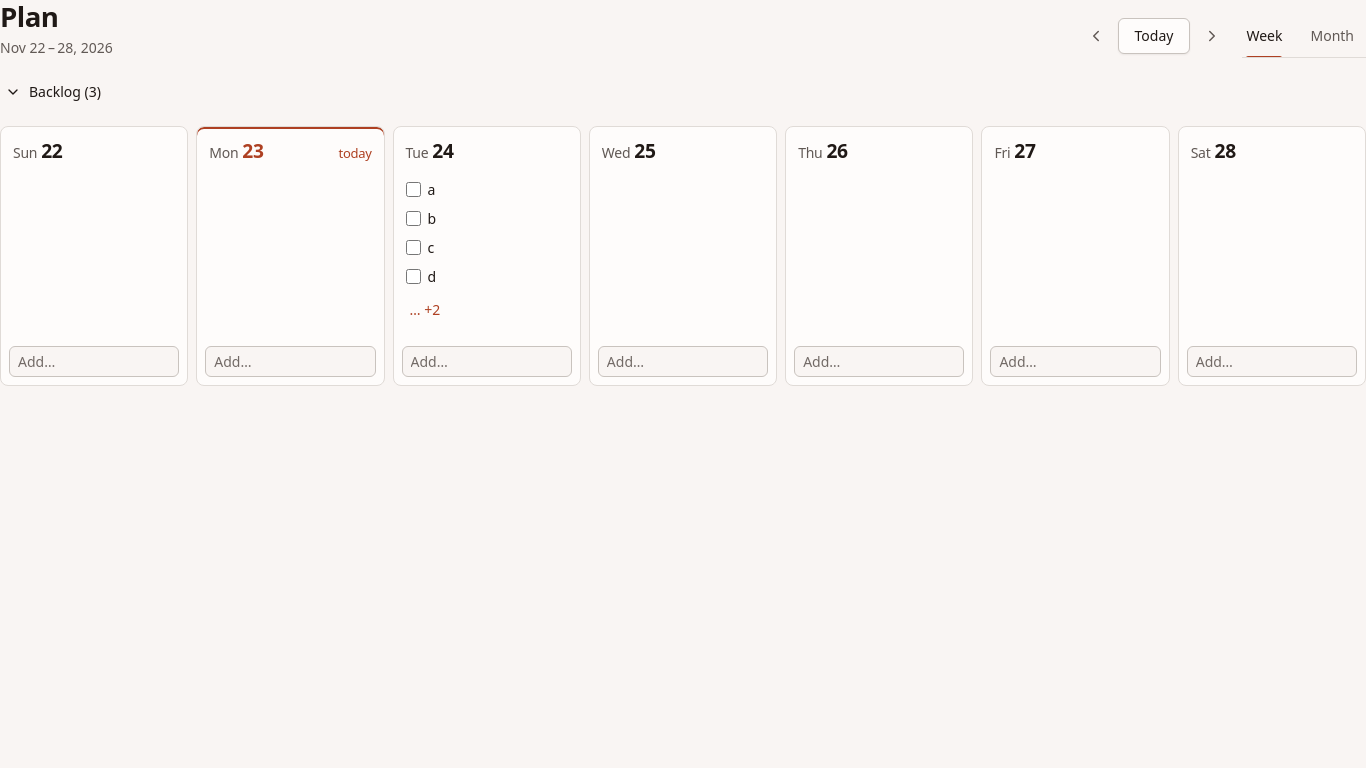
it: PlannerPage week view › caps a day at four items and opens the rest in the day detail
Expected: the number of checkboxes is 4, [406, 182, 421, 197]; [406, 211, 421, 226]; [406, 240, 421, 255]; [406, 269, 421, 284]
Step 1. Click the button "… +2" → (425, 309), box [402, 295, 448, 323]
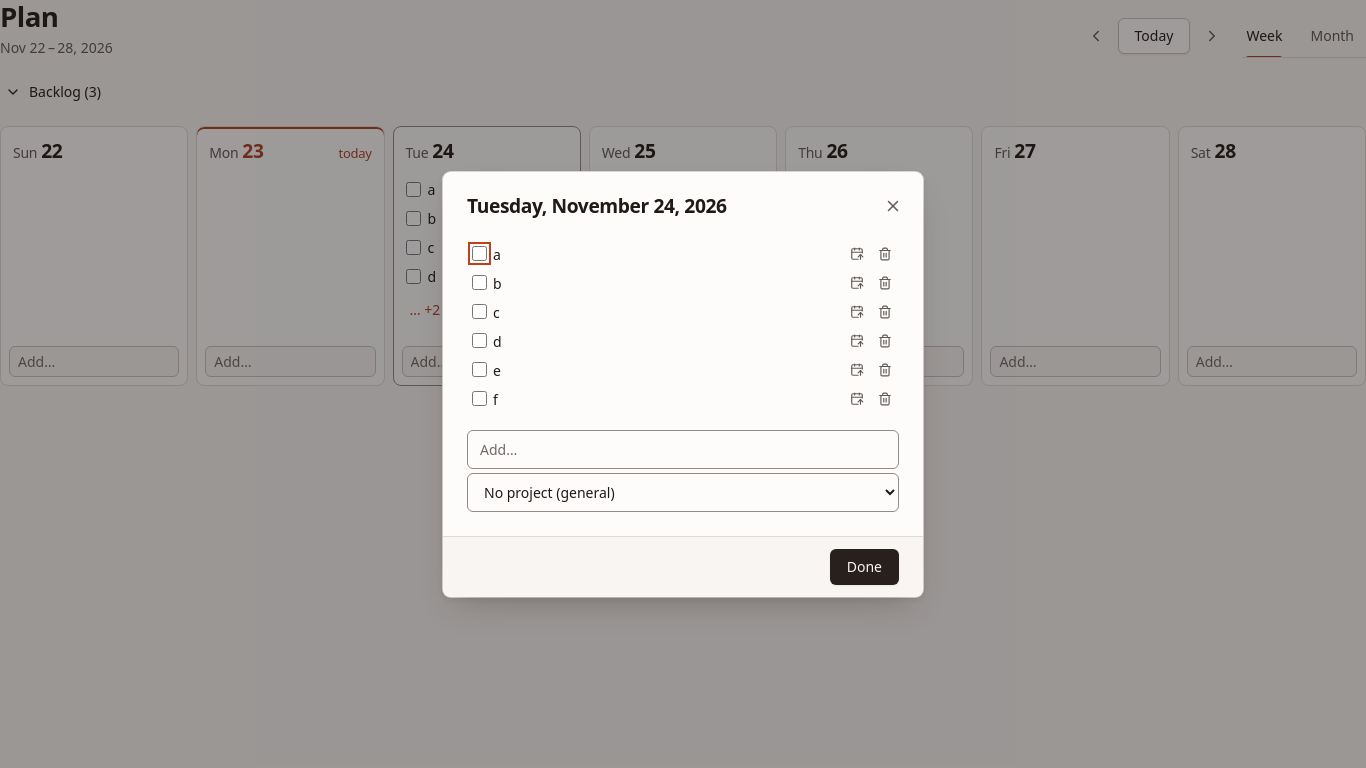
Result: the button named "Delete “f”" is shown at [871, 384, 899, 412]
